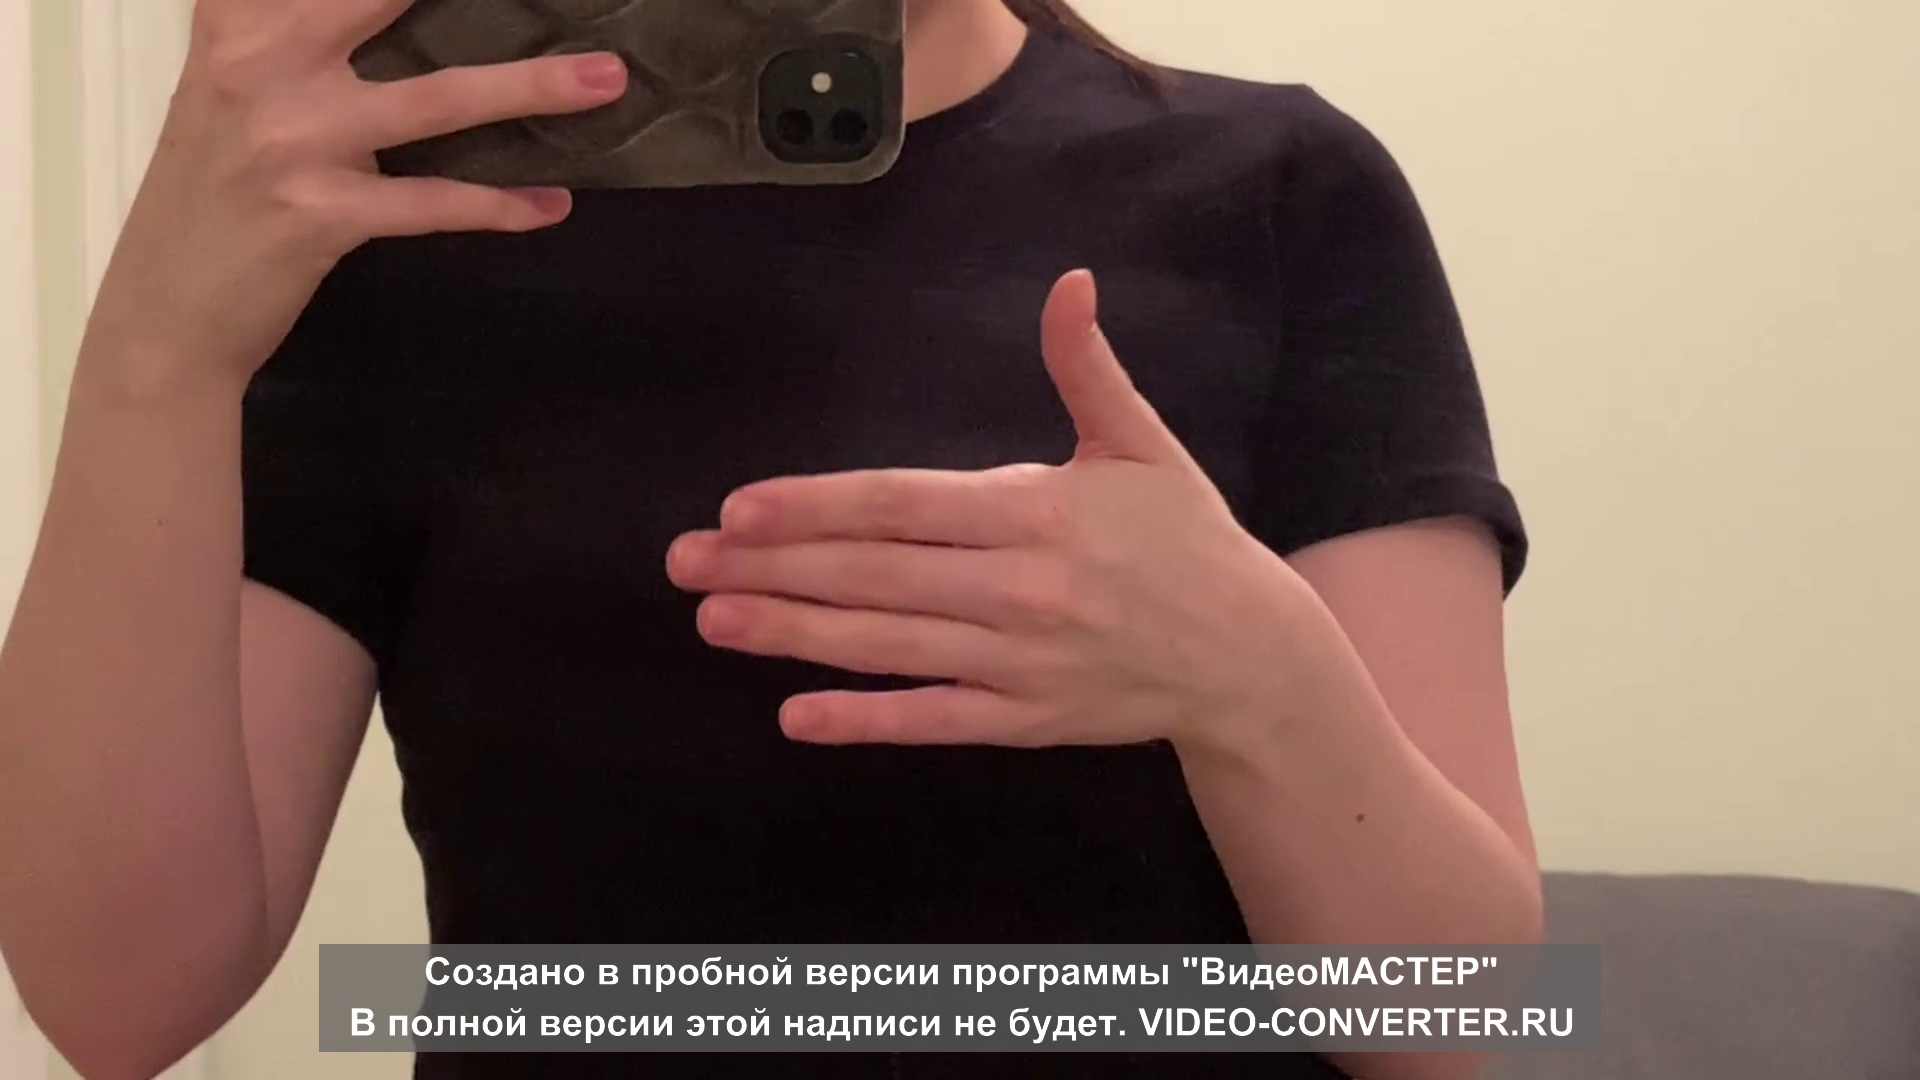Кисть: (662, 268, 1225, 742)
